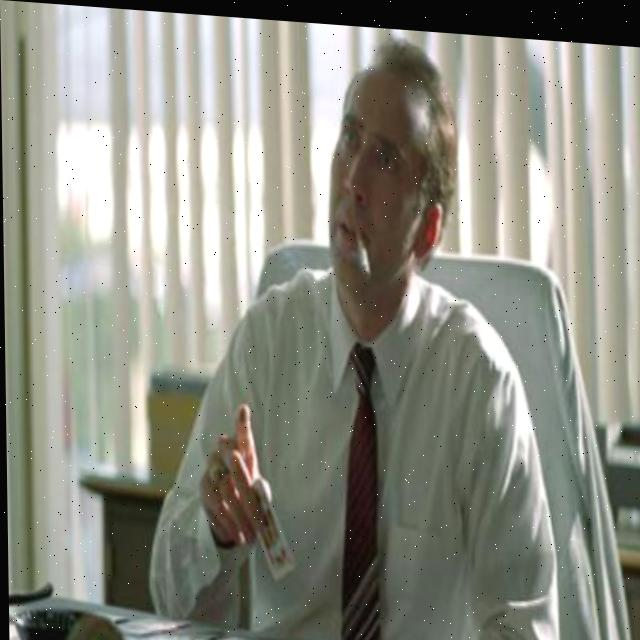cigarette: (354, 225, 367, 273)
